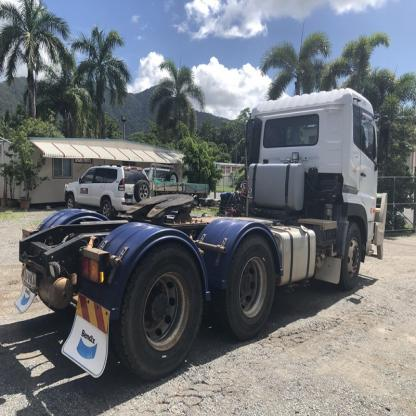dump_truck: (22, 81, 411, 372)
